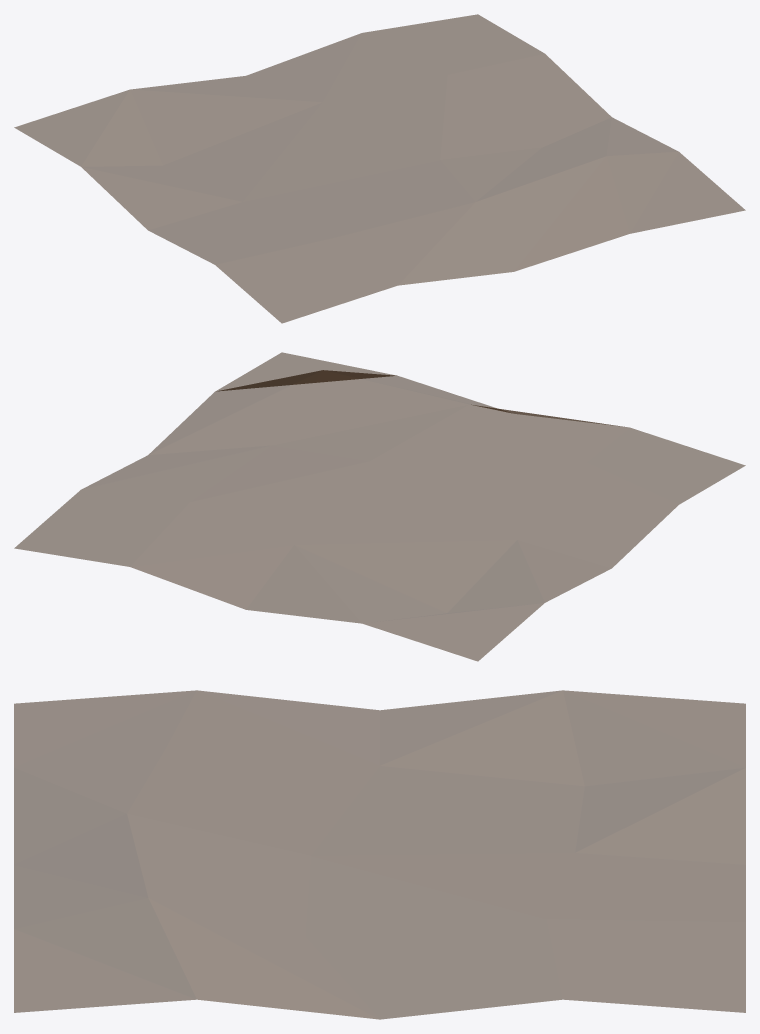
The model's file is sand2_top.sapphire.obj.
3 views of the same model, one above another, from view 1: azimuth 30°, elevation 25°; view 2: azimuth 150°, elevation 25°; view 3: azimuth 270°, elevation 25° (orthographic). The views are drawn at different scales.
Visible parts, largest first — view 1: DownwardTop_Cube.000; view 2: DownwardTop_Cube.000; view 3: DownwardTop_Cube.000.
Boxes of the visible parts, x1,y1,x2,y2 form: DownwardTop_Cube.000: (14, 14, 745, 323); DownwardTop_Cube.000: (14, 352, 745, 661); DownwardTop_Cube.000: (14, 690, 745, 1019).
Size of the model in its own units: 1 by 0.1174 by 1.
